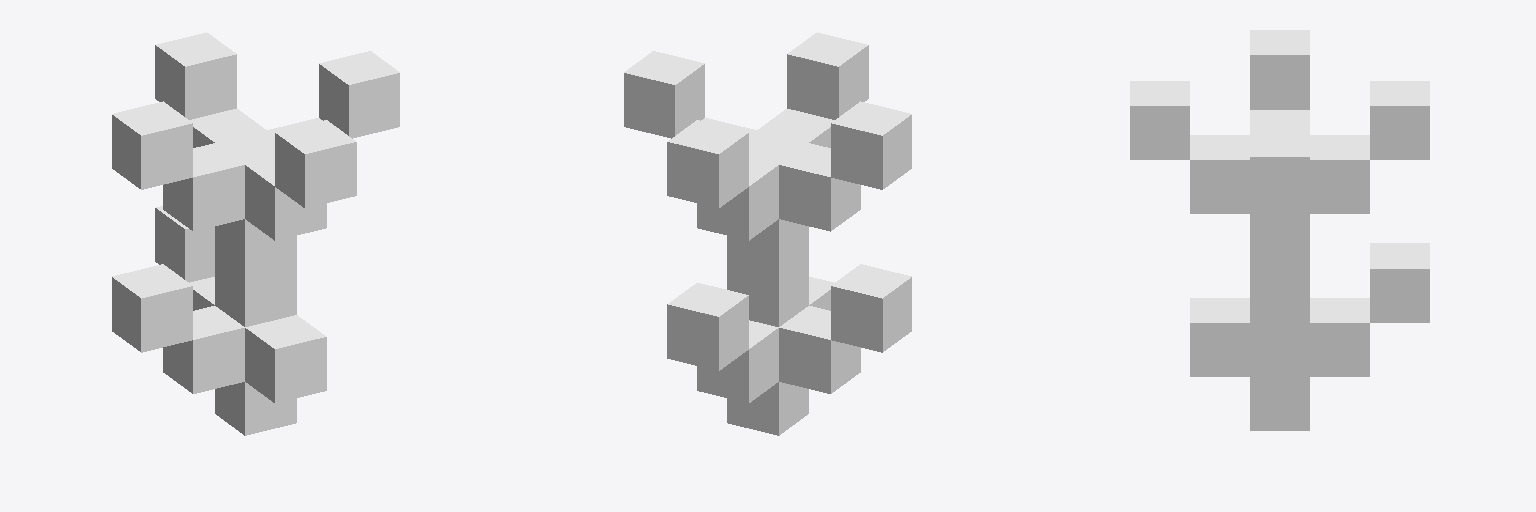
The model's file is start_end-12.obj.
3 renders of one model, left to right at view 1: azimuth 30°, elevation 25°; view 2: azimuth 150°, elevation 25°; view 3: azimuth 270°, elevation 25°, orthographic.
Parts seen in each view (by area): view 1: object 1; view 2: object 1; view 3: object 1.
Boxes of the visible parts, <box> form: object 1: <box>112,32,399,435</box>; object 1: <box>624,32,911,435</box>; object 1: <box>1130,30,1429,430</box>.
Bounding box in the file's own units: 0.5 × 0.6 × 0.5.